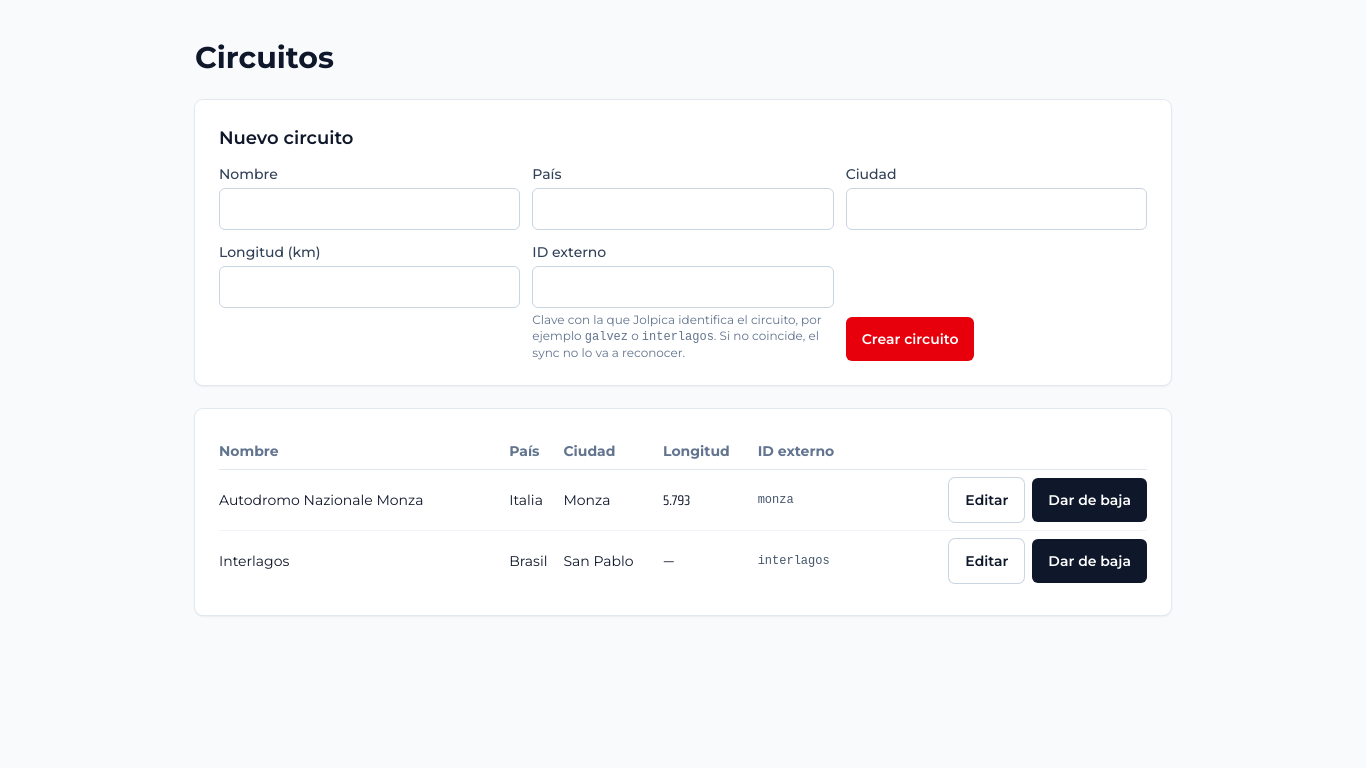
Scenario: CircuitsPage › muestra en castellano el error del backend cuando la baja se rechaza
Step 1. Click the button "Dar de baja" in the row of "Brasil" → (1090, 561), box [1032,539,1147,583]
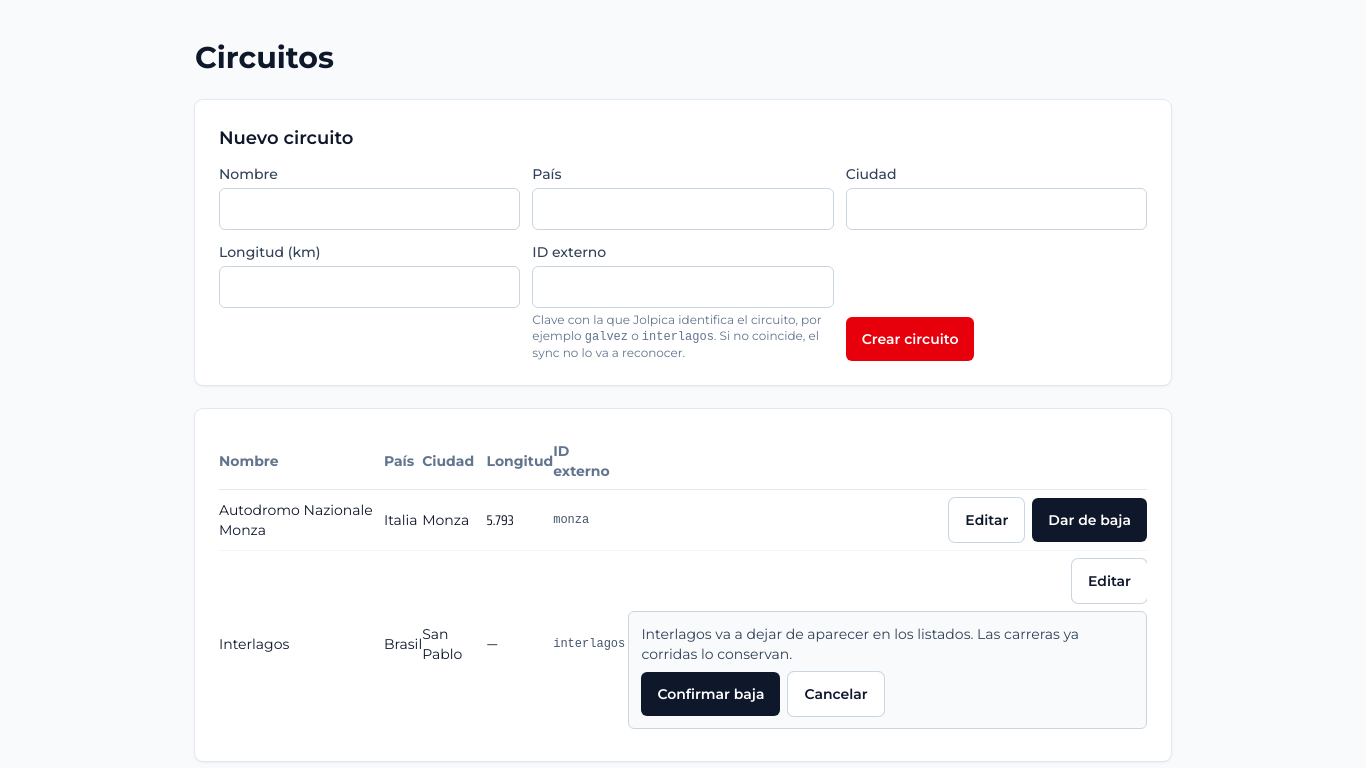
Step 2. Click the button "Confirmar baja" → (711, 694), box [641,672,780,716]
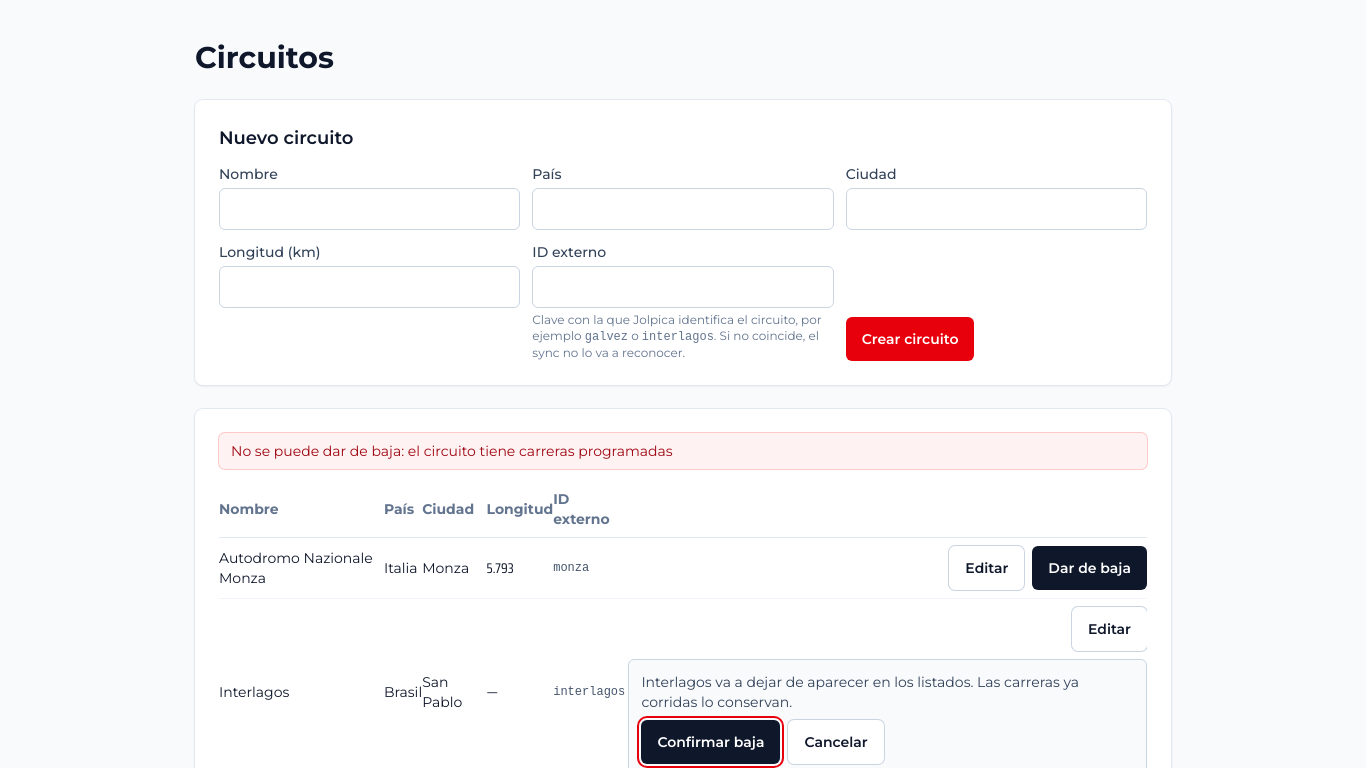
Expected: the text "No se puede dar de baja: el circuito tiene carreras programadas" is shown, [219,433,1147,469]
